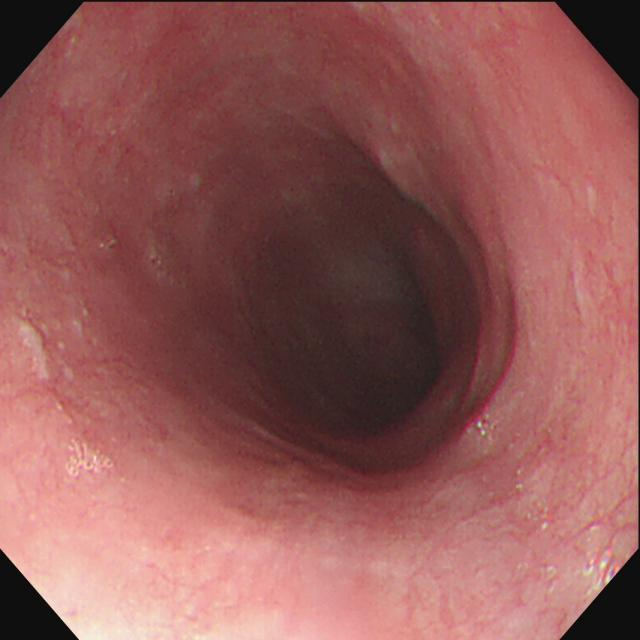E: (336, 246, 453, 437)
J: (18, 317, 52, 381)
T: (66, 438, 114, 481)
